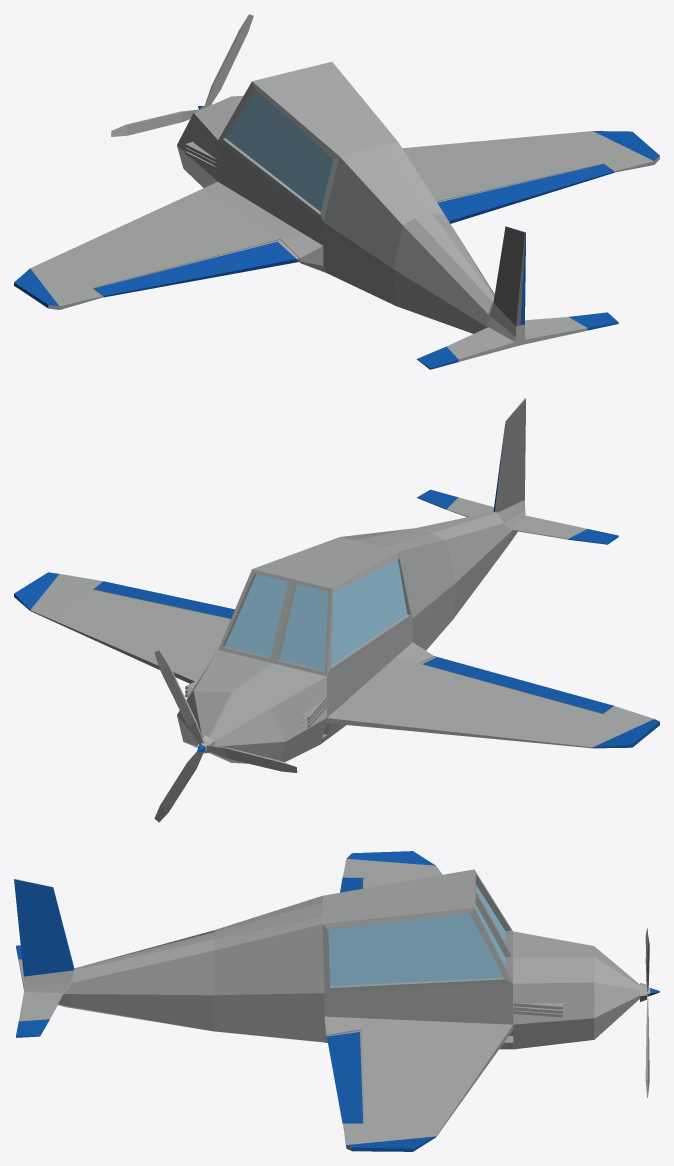
File: avios.obj
3 views of the same model, one above another, from view 1: azimuth 30°, elevation 25°; view 2: azimuth 150°, elevation 25°; view 3: azimuth 270°, elevation 25° (orthographic).
Parts seen in each view (by area): view 1: Plane_Mesh polySurface15 polySurface17 polySurface19 polySurface, Plane_Mesh polySurface15 polySurface17 polySurface20 polySurface; view 2: Plane_Mesh polySurface15 polySurface17 polySurface19 polySurface, Plane_Mesh polySurface15 polySurface17 polySurface20 polySurface, Plane_Mesh polySurface16 polySurface15, Plane_Mesh polySurface15 polySurface18 polySurface17; view 3: Plane_Mesh polySurface15 polySurface17 polySurface19 polySurface, polySurface14 Plane_Mesh.
Boxes of the visible parts, x1,y1,x2,y2 form: Plane_Mesh polySurface15 polySurface17 polySurface19 polySurface: [14, 14, 659, 369]; Plane_Mesh polySurface15 polySurface17 polySurface20 polySurface: [226, 90, 333, 211]; Plane_Mesh polySurface15 polySurface17 polySurface19 polySurface: [14, 398, 659, 822]; Plane_Mesh polySurface15 polySurface17 polySurface20 polySurface: [331, 559, 407, 665]; Plane_Mesh polySurface16 polySurface15: [225, 574, 287, 657]; Plane_Mesh polySurface15 polySurface18 polySurface17: [279, 584, 328, 670]; Plane_Mesh polySurface15 polySurface17 polySurface19 polySurface: [14, 851, 659, 1151]; polySurface14 Plane_Mesh: [328, 913, 503, 986].
Bounding box in the file's own units: 3.05 × 0.9421 × 2.79.
4 materials, 3 textured.
